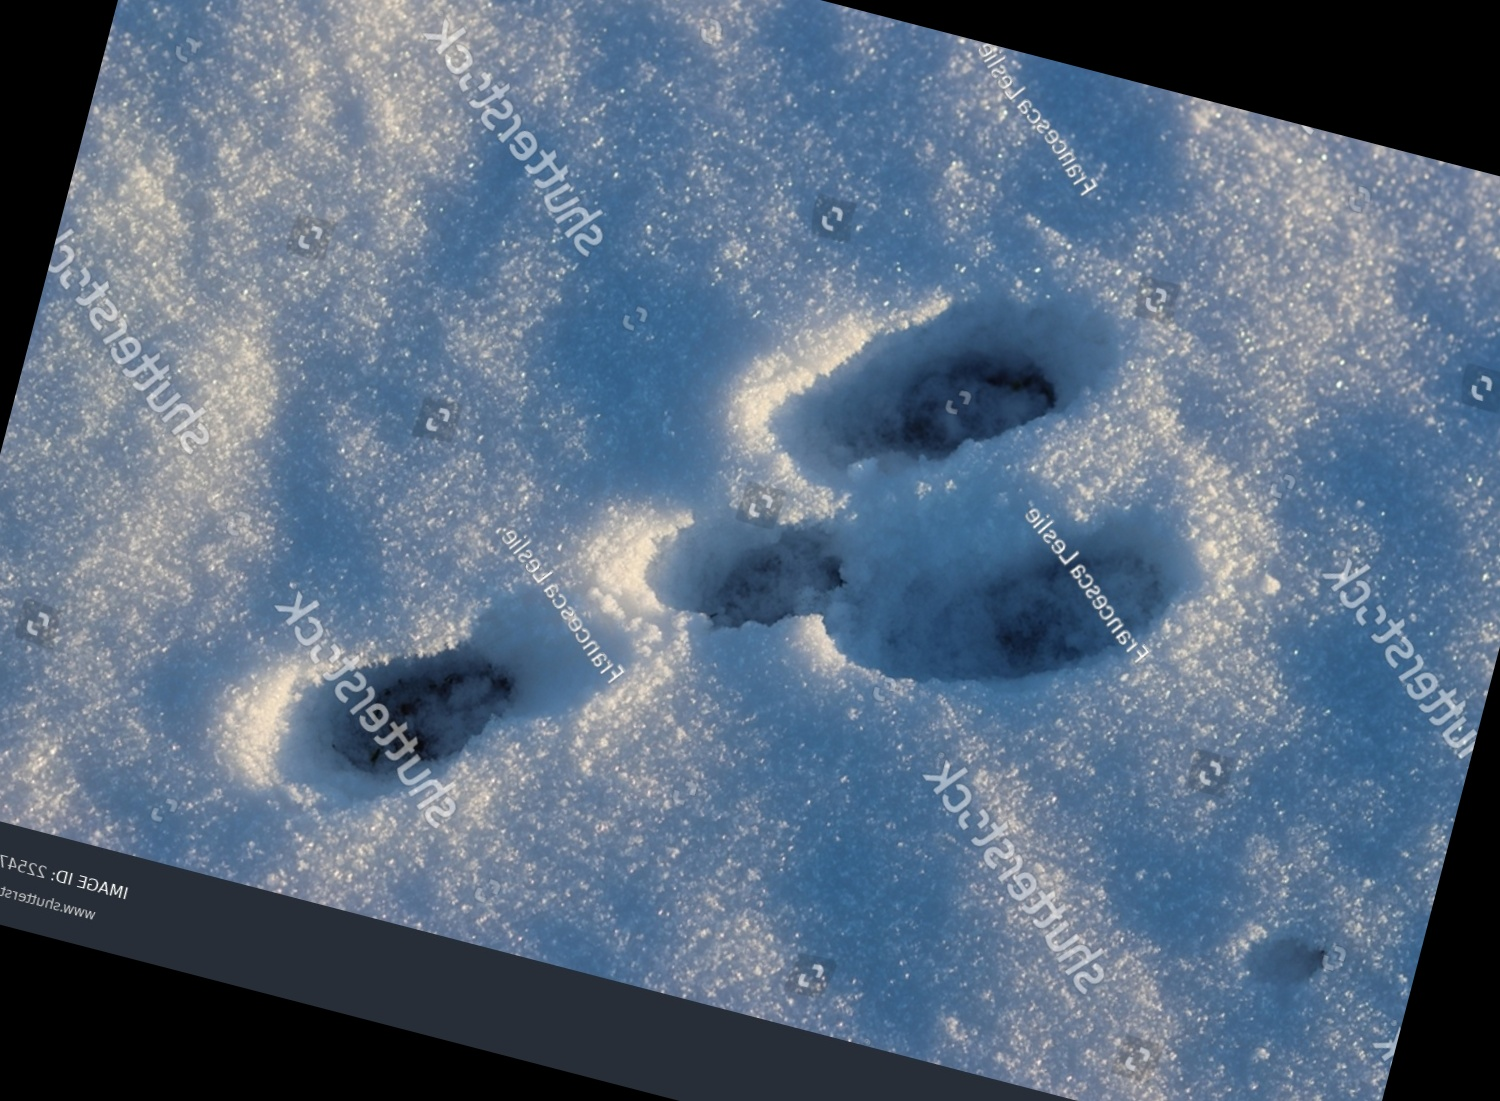rabbit: (172, 27, 1321, 1043)
